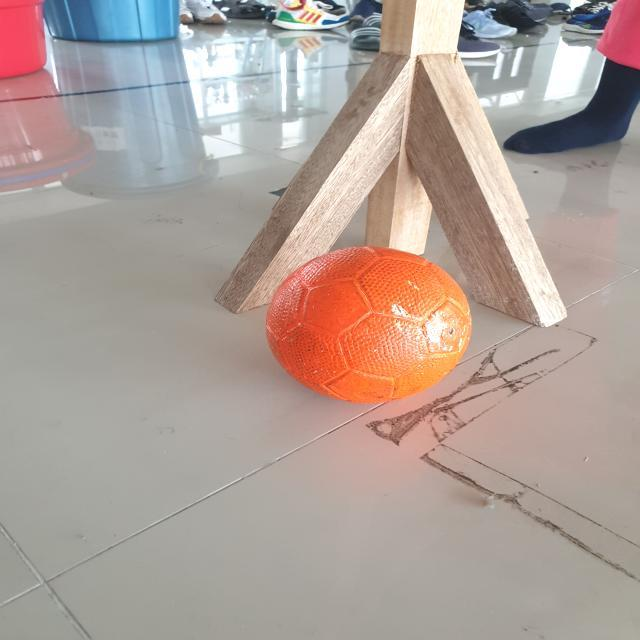bola: (258, 242, 481, 409)
